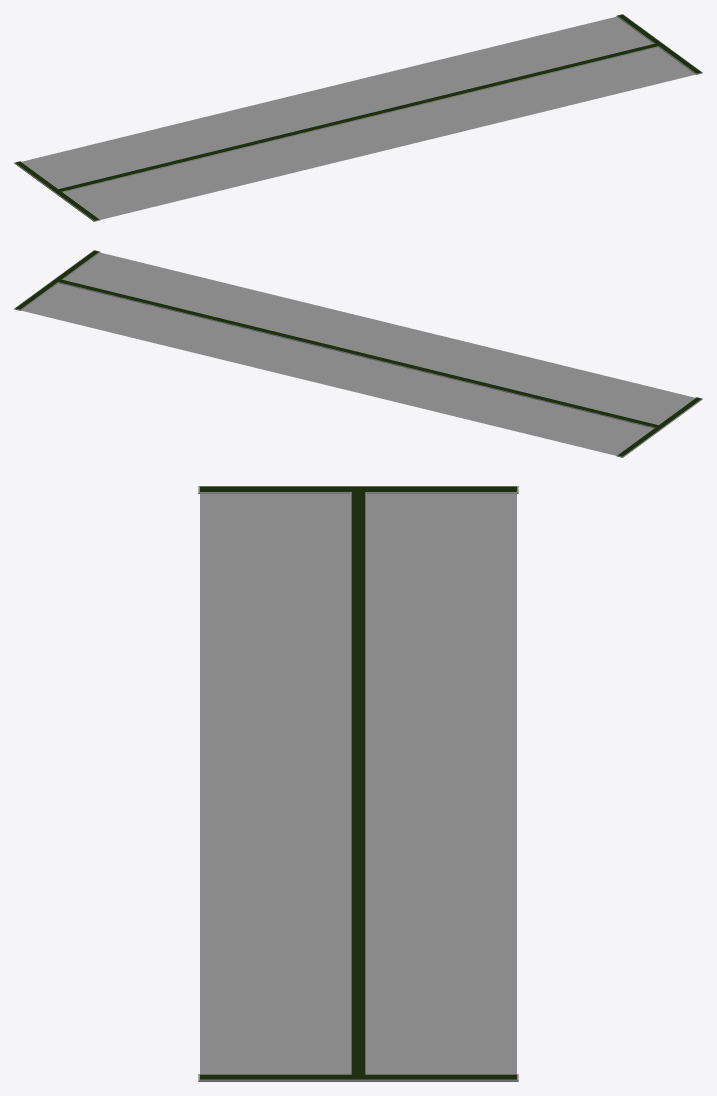
The model's file is RT ParkIs V03.FBX.
3 renders of one model, top to bottom at view 1: azimuth 30°, elevation 25°; view 2: azimuth 150°, elevation 25°; view 3: azimuth 270°, elevation 25°, orthographic. The views are drawn at different scales.
Visible parts, largest first — view 1: RT ParkIs Lines V03 S, RT ParkIs V03; view 2: RT ParkIs Lines V03 S, RT ParkIs V03; view 3: RT ParkIs Lines V03 S, RT ParkIs V03.
Boxes of the visible parts, x1,y1,x2,y2 form: RT ParkIs Lines V03 S: [22, 16, 695, 219]; RT ParkIs V03: [14, 14, 702, 221]; RT ParkIs Lines V03 S: [21, 252, 694, 455]; RT ParkIs V03: [14, 250, 702, 457]; RT ParkIs Lines V03 S: [200, 493, 516, 1073]; RT ParkIs V03: [198, 486, 518, 1081].
Bounding box in the file's own units: 139 × 0.15 × 31.66.
